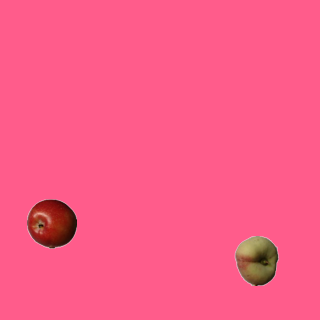Apple Braeburn: (26, 198, 76, 248)
Peach Flat: (231, 235, 281, 285)
